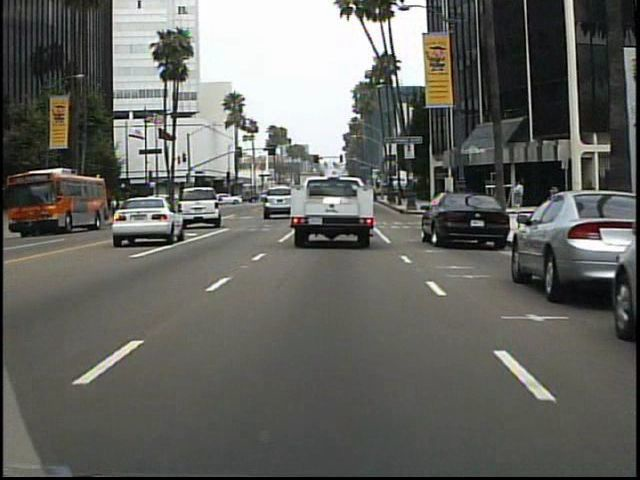person: (514, 178, 527, 196)
